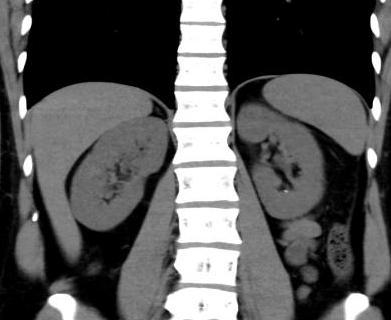Tas_Var: (283, 188, 289, 194)
